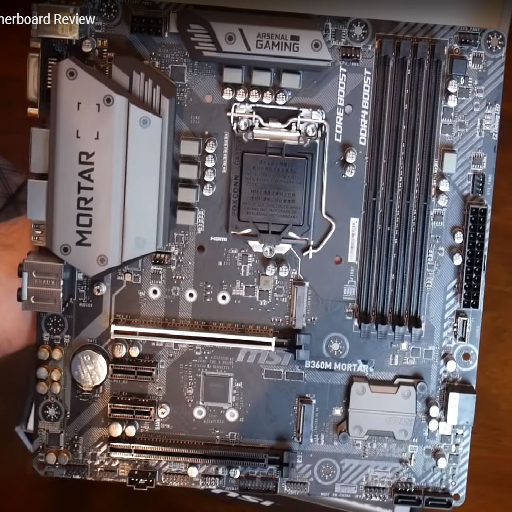CPU: (227, 126, 317, 258)
GPU: (108, 321, 311, 366), (104, 437, 300, 480)
MOTHERBOARD: (15, 5, 501, 507)
RAM: (355, 38, 448, 345)
SSD: (292, 396, 316, 446), (287, 276, 310, 328)
